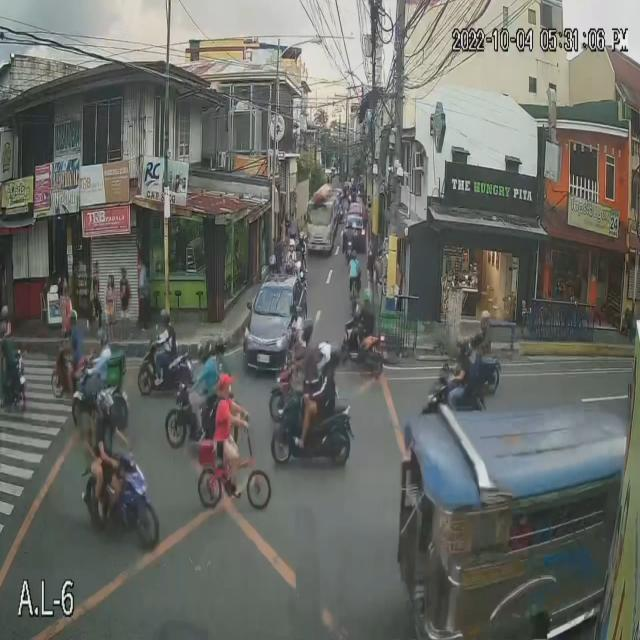full: (315, 337, 336, 374), (98, 390, 114, 420), (196, 338, 212, 363), (456, 335, 470, 361), (95, 323, 110, 347), (300, 318, 313, 344), (158, 307, 170, 328), (68, 308, 79, 328)
half: (215, 336, 227, 357), (480, 309, 490, 331)
